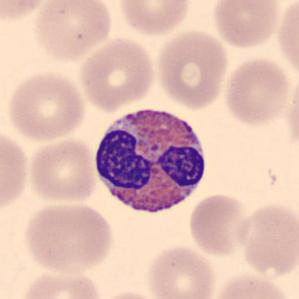Eosinophil: (89, 99, 212, 225)
RBC: (20, 199, 116, 276), (154, 27, 230, 111), (4, 68, 88, 144), (77, 36, 158, 112), (222, 54, 294, 128), (31, 0, 114, 63), (25, 136, 99, 204), (237, 200, 298, 279), (186, 192, 253, 257), (144, 244, 218, 299), (209, 0, 283, 50), (115, 0, 194, 37), (0, 125, 32, 216), (18, 269, 103, 299), (209, 272, 295, 299), (274, 0, 298, 81), (0, 0, 51, 24), (95, 289, 165, 299)
